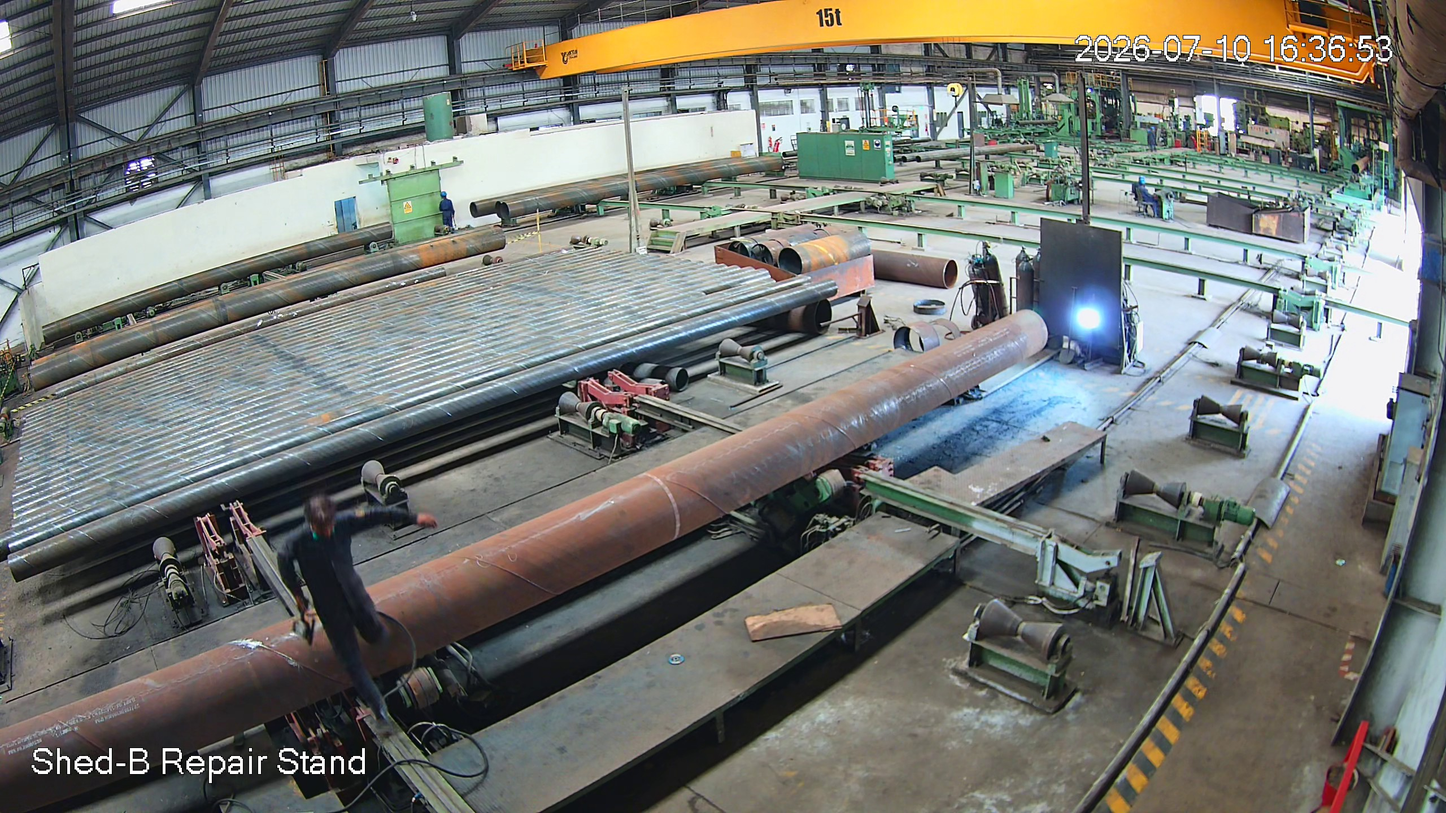Person: (277, 505, 414, 700)
